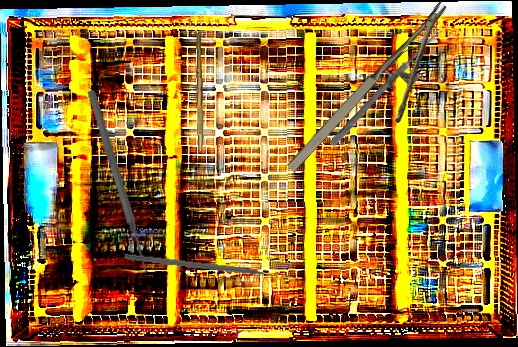Chopper: (122, 253, 288, 288)
Needle Holder: (281, 1, 481, 200)
Pusher: (84, 88, 153, 276)
Scalpel Handle: (193, 32, 207, 152)
Surgical Spoon: (329, 26, 443, 148)
